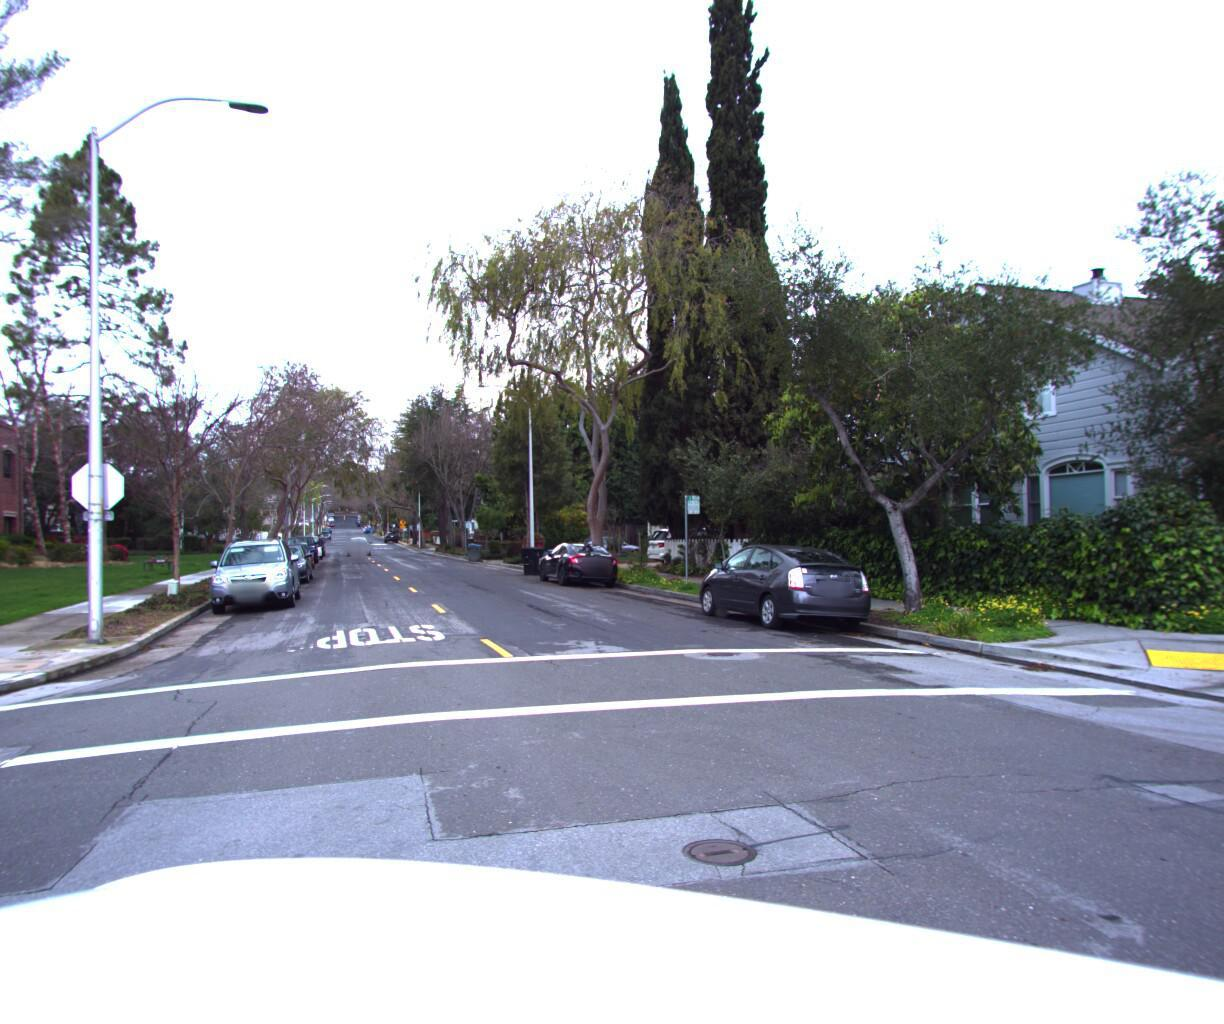car: (685, 544, 877, 646), (200, 538, 299, 624), (639, 529, 756, 573), (533, 543, 620, 593), (249, 549, 314, 593), (568, 538, 645, 565), (271, 546, 313, 577)
